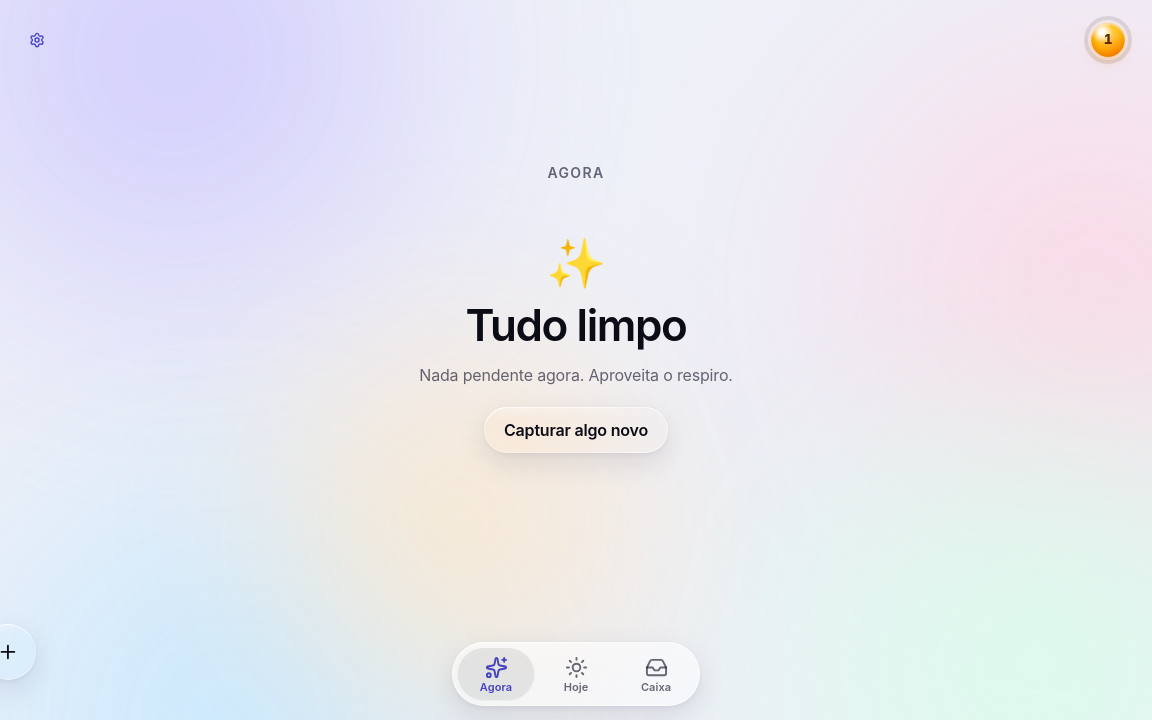
Captura rápida › Shift+Enter salva e mantém aberto para a próxima
Press n
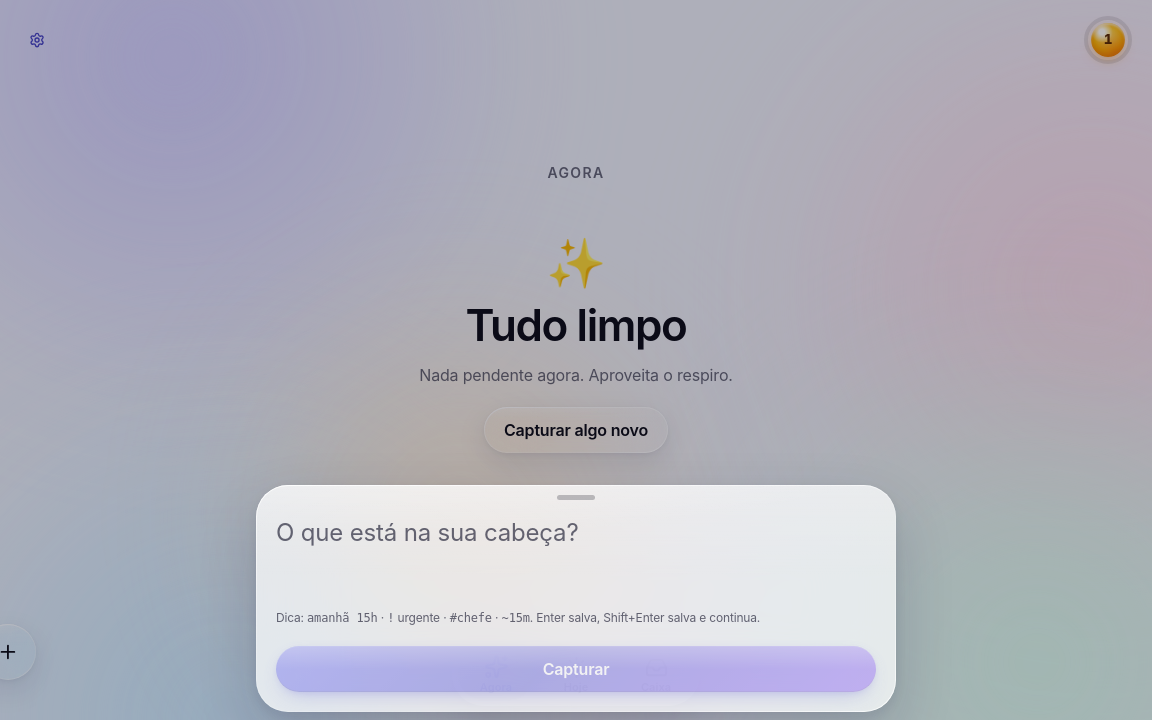
In the field named "Nova tarefa": {"x": 576, "y": 533} [276,508,876,558], type "comprar café"
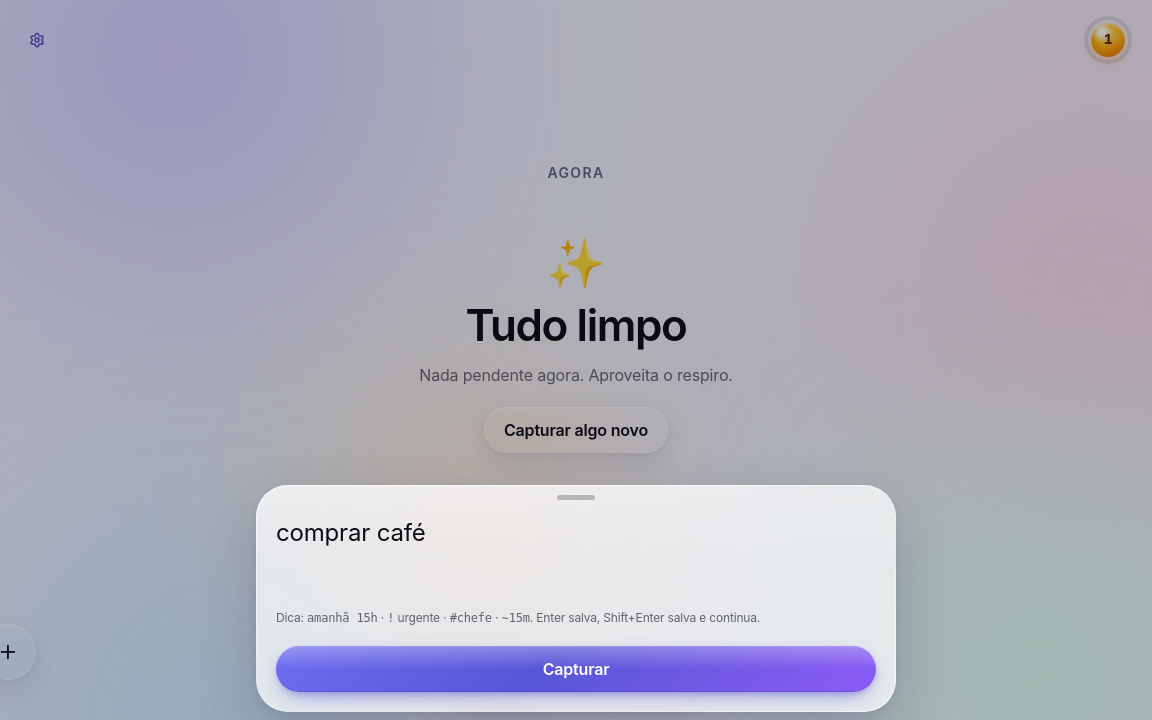
Press Enter in the field named "Nova tarefa", box [276,508,876,558]
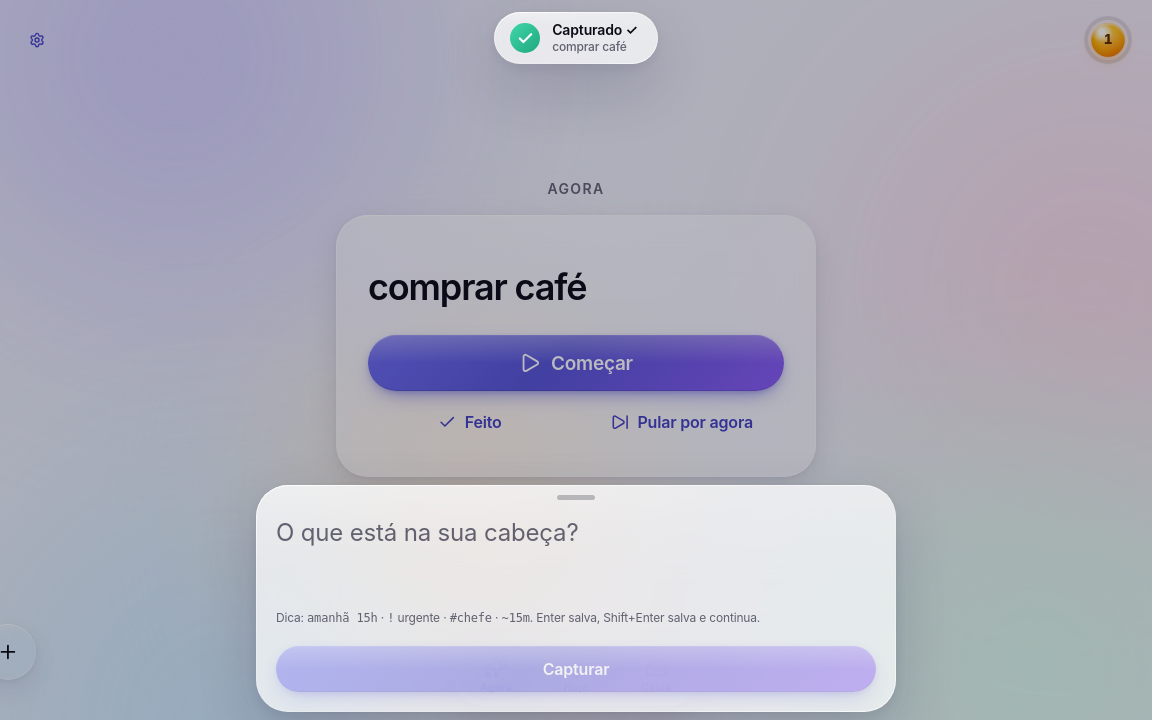
Expected: the dialog named "Captura rápida" is shown, [256,485,896,712]
Expected: the field named "Nova tarefa" is empty, [276,508,876,558]
